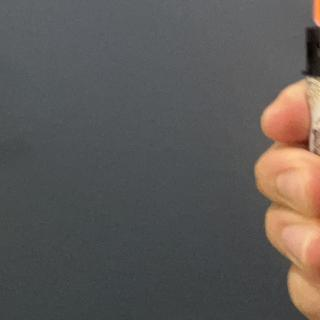fire: (309, 0, 320, 29)
